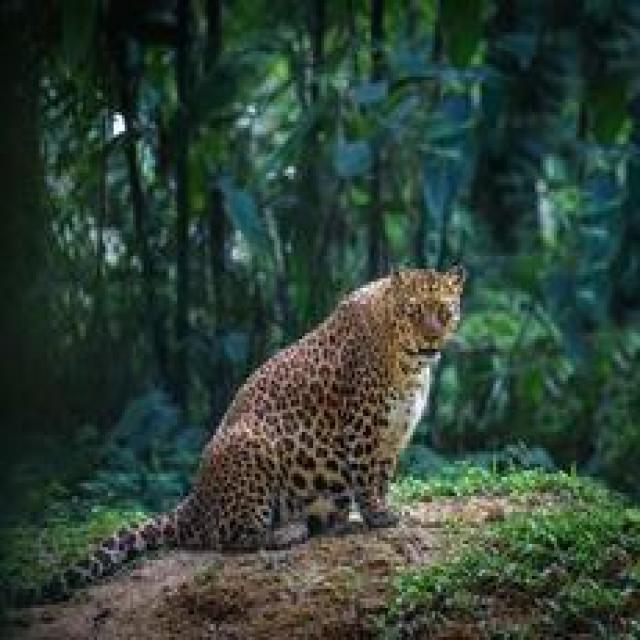Jaguar: (0, 259, 468, 608)
